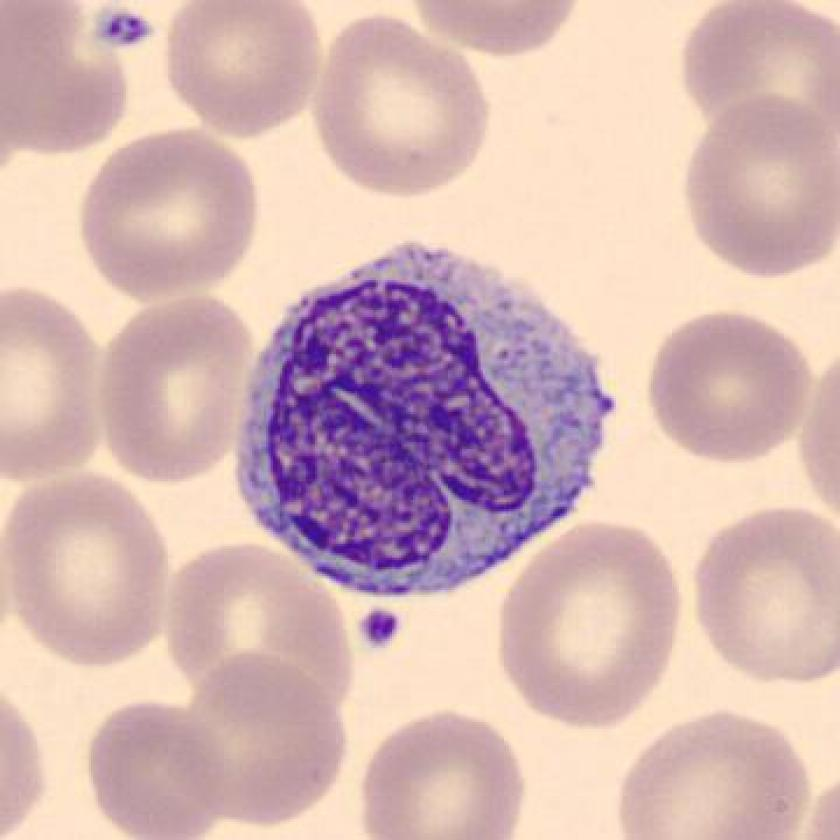monocyte: (225, 223, 636, 617)
